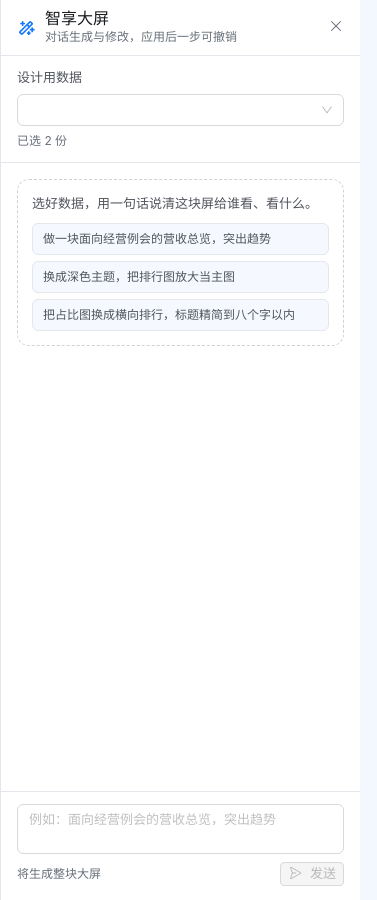
Test: SmartDashboardPanel › sends a brief, renders the narrative and candidate card, and applies it
Expected: the text "已选 2 份" is shown, [17,132,67,148]
Type "做一块营收驾驶舱" into the text box named "设计需求".
click(180, 829); type("做一块营收驾驶舱")  # box [17,804,344,854]
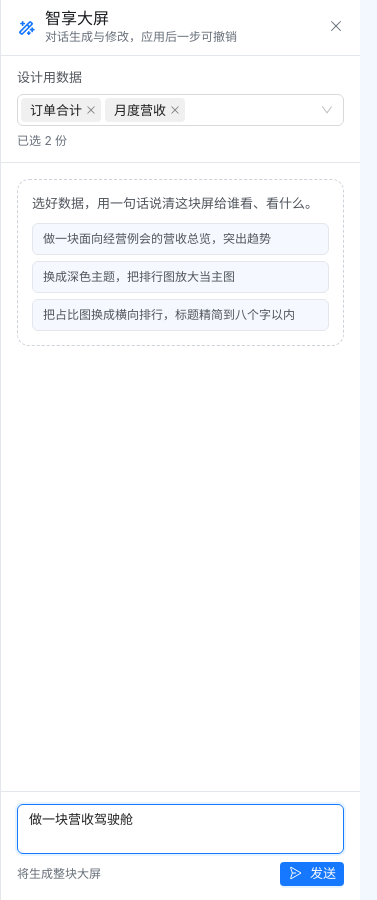
Click the button "发送".
click(312, 874)  # box [280,862,344,886]
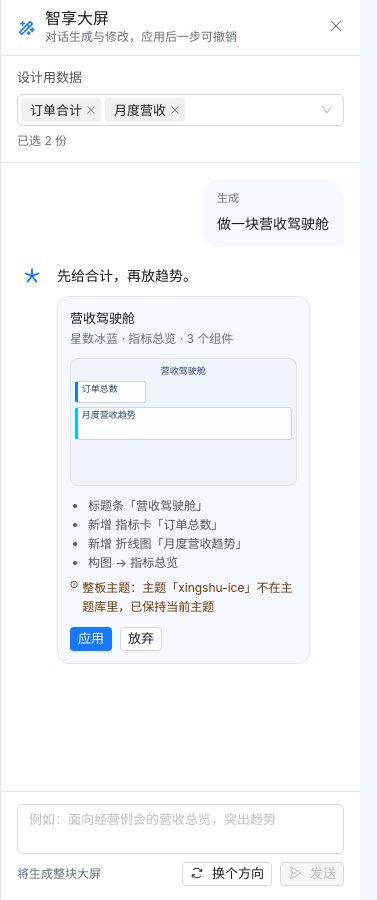
Expected: the text "先给合计，再放趋势。" is shown, [57,264,197,288]
Expected: the element named "智享候选方案" shows "营收驾驶舱", [70,310,135,326]
Expected: the element named "智享候选方案" shows "指标总览", [118,331,176,346]
Click the button "应用".
click(91, 639)  # box [70,627,112,651]
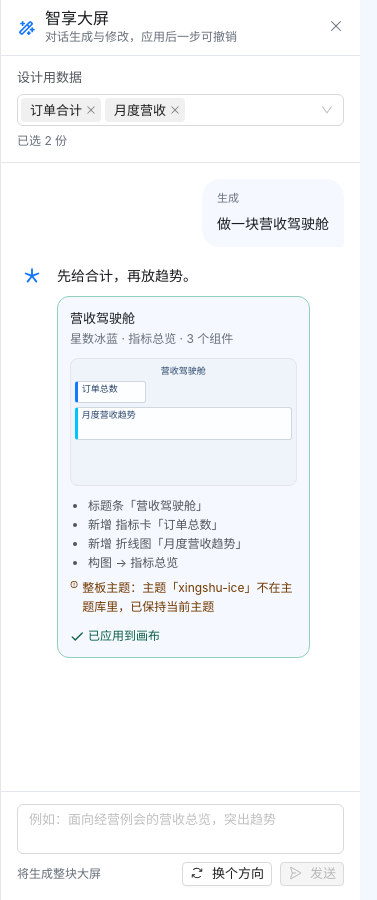
Expected: the button "换个方向" is shown, [182,862,272,886]
Expected: the text "已应用到画布" is shown, [70,627,160,645]
